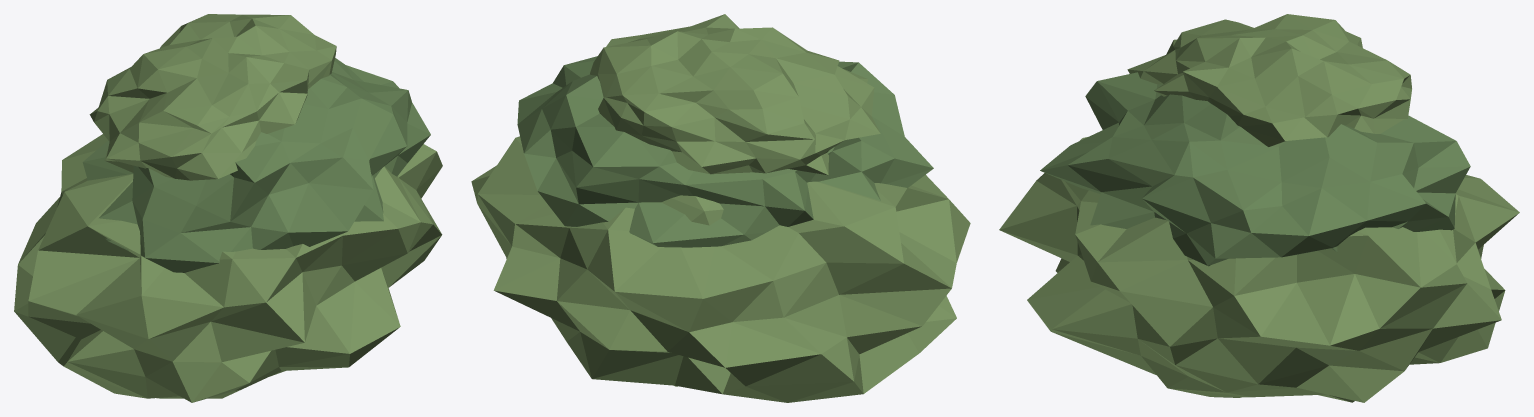
File: SM_Bush_A.fbx
3 views of the same model, side by side, from view 1: azimuth 30°, elevation 25°; view 2: azimuth 150°, elevation 25°; view 3: azimuth 270°, elevation 25° (orthographic). The views are drawn at different scales.
Parts seen in each view (by area): view 1: SM_Bush_A; view 2: SM_Bush_A; view 3: SM_Bush_A.
Boxes of the visible parts, x1,y1,x2,y2 form: SM_Bush_A: (14,14,442,402); SM_Bush_A: (471,14,970,402); SM_Bush_A: (999,14,1519,402).
Bounding box in the file's own units: 1.89 × 1.4 × 1.78.
